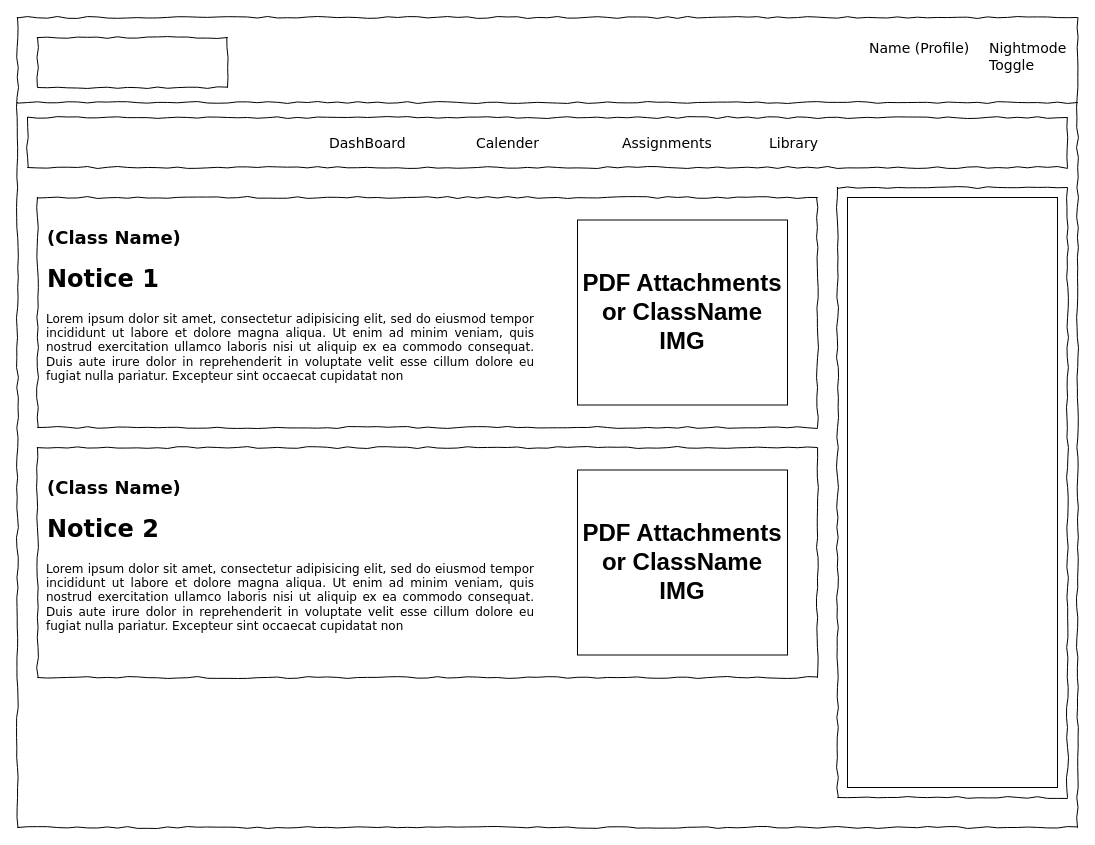
This 1095x845 diagram has some shape labels left out. The box of each missing label's shape, as (x1, y1, x2, y2) in pixels:
LOGO: (36, 36, 228, 88)
Pending Assignments Upcoming Tests: (846, 196, 1058, 788)
